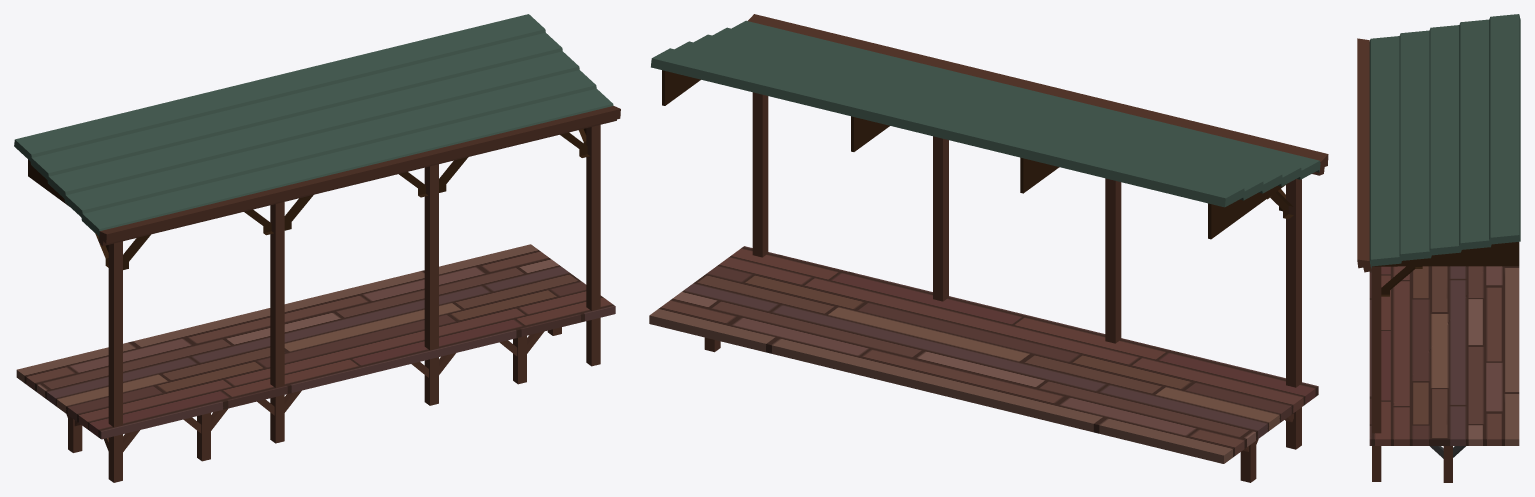
The model's file is Deck Train Front.glb.
The picture shows the model from 3 angles, left to right: view 1: azimuth 30°, elevation 25°; view 2: azimuth 150°, elevation 25°; view 3: azimuth 270°, elevation 25°; orthographic projection. The views are drawn at different scales.
Visible parts, largest first — view 1: Deck Train Front; view 2: Deck Train Front; view 3: Deck Train Front.
Boxes of the visible parts, bbox=[...] form: Deck Train Front: bbox=[14, 14, 620, 482]; Deck Train Front: bbox=[649, 14, 1328, 482]; Deck Train Front: bbox=[1357, 14, 1520, 482].
Size of what is drawn, in the model's own units: 7.02 by 3.72 by 2.19.
Materials: 2 (2 with a texture image).
